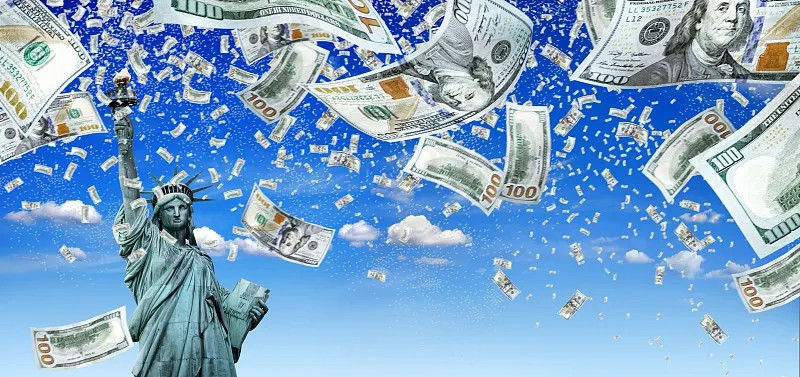SL: (108, 67, 271, 377)
